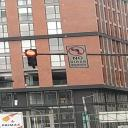NoVirarEsquerda: (63, 43, 91, 70)
